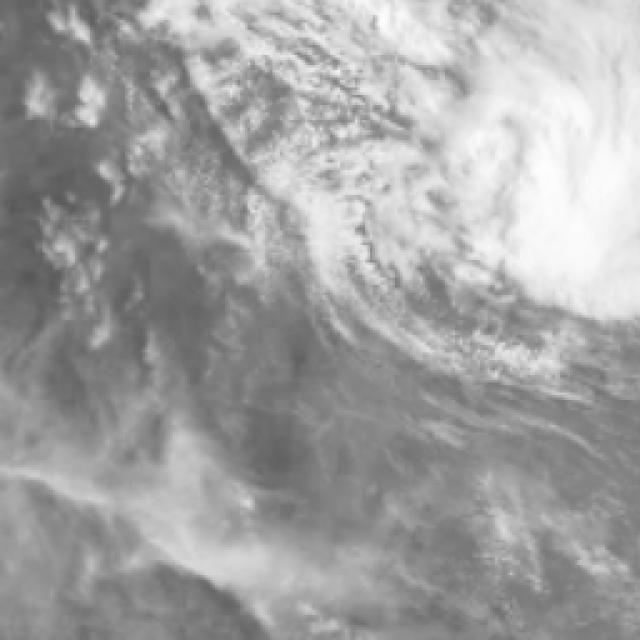CB: (525, 103, 640, 297)
